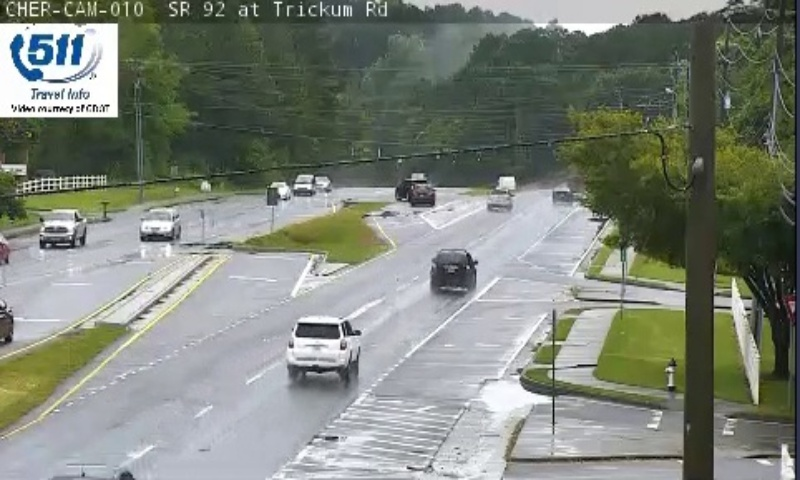car: (286, 315, 358, 368), (429, 248, 474, 289), (486, 189, 514, 211)
